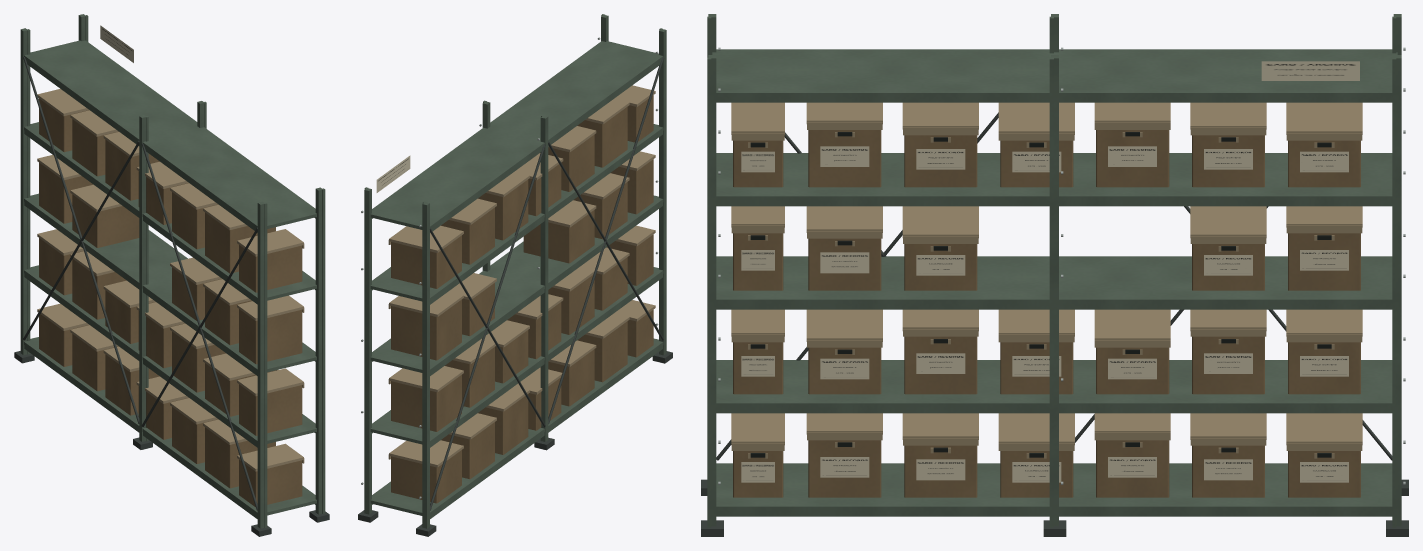
Rendered from SM_ArchiveProps_ShelvingStorage.fbx.
3 views of the same model, side by side, from view 1: azimuth 30°, elevation 25°; view 2: azimuth 150°, elevation 25°; view 3: azimuth 270°, elevation 25° (orthographic). The views are drawn at different scales.
Parts seen in each view (by area): view 1: SM_ArchiveProps_ShelvingStorage; view 2: SM_ArchiveProps_ShelvingStorage; view 3: SM_ArchiveProps_ShelvingStorage.
Part boxes in pixels (x1,y1,x2,y2): SM_ArchiveProps_ShelvingStorage: (14, 14, 329, 536); SM_ArchiveProps_ShelvingStorage: (358, 14, 672, 536); SM_ArchiveProps_ShelvingStorage: (701, 14, 1408, 536).
Bounding box in the file's own units: 0.514 × 3.1 × 2.3.
